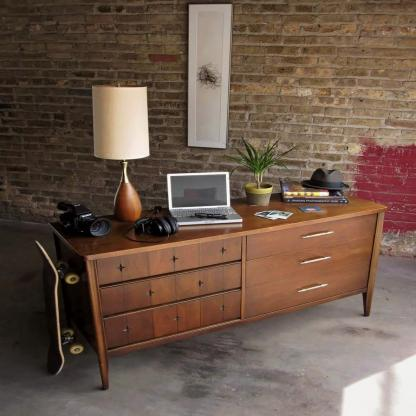board: (34, 241, 86, 376), (164, 168, 244, 228)
